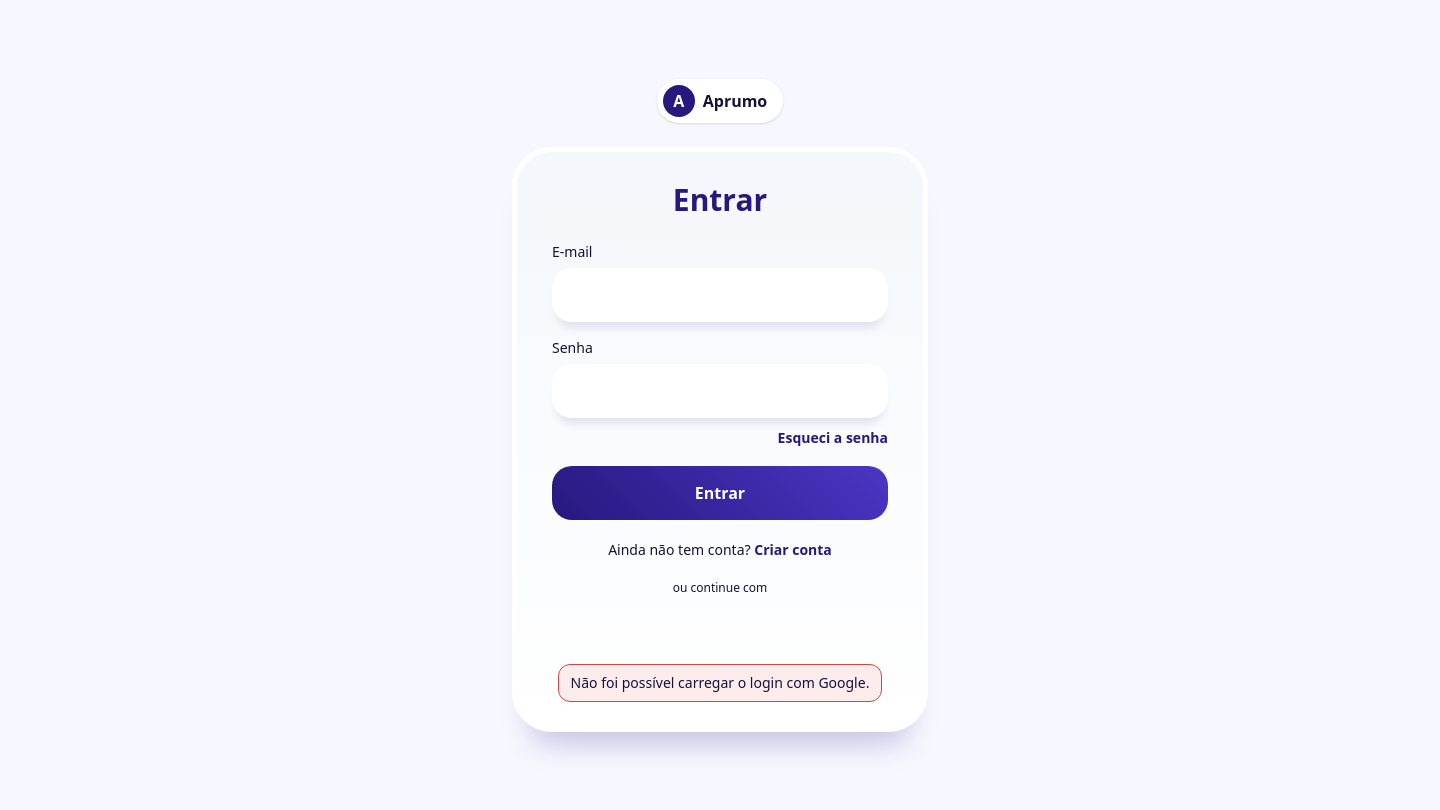
Scenario: LoginPage › login_com_sucesso_vai_para_inicio
Type "ana@exemplo.com" into the field labelled "E-mail" at (720, 294), box [552,268,888,322]
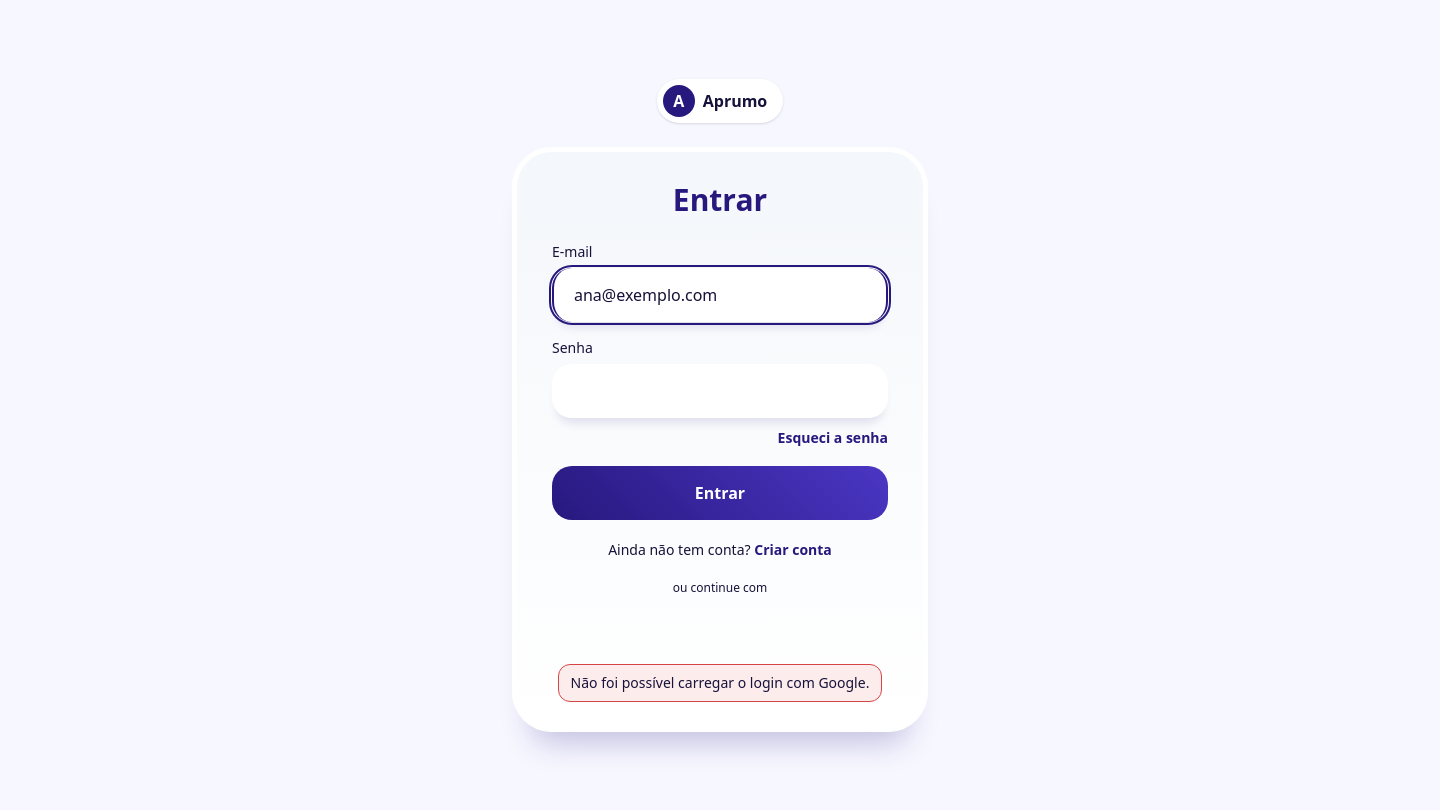
Type "senha-correta" into the password field labelled "Senha" at (720, 390), box [552,364,888,418]
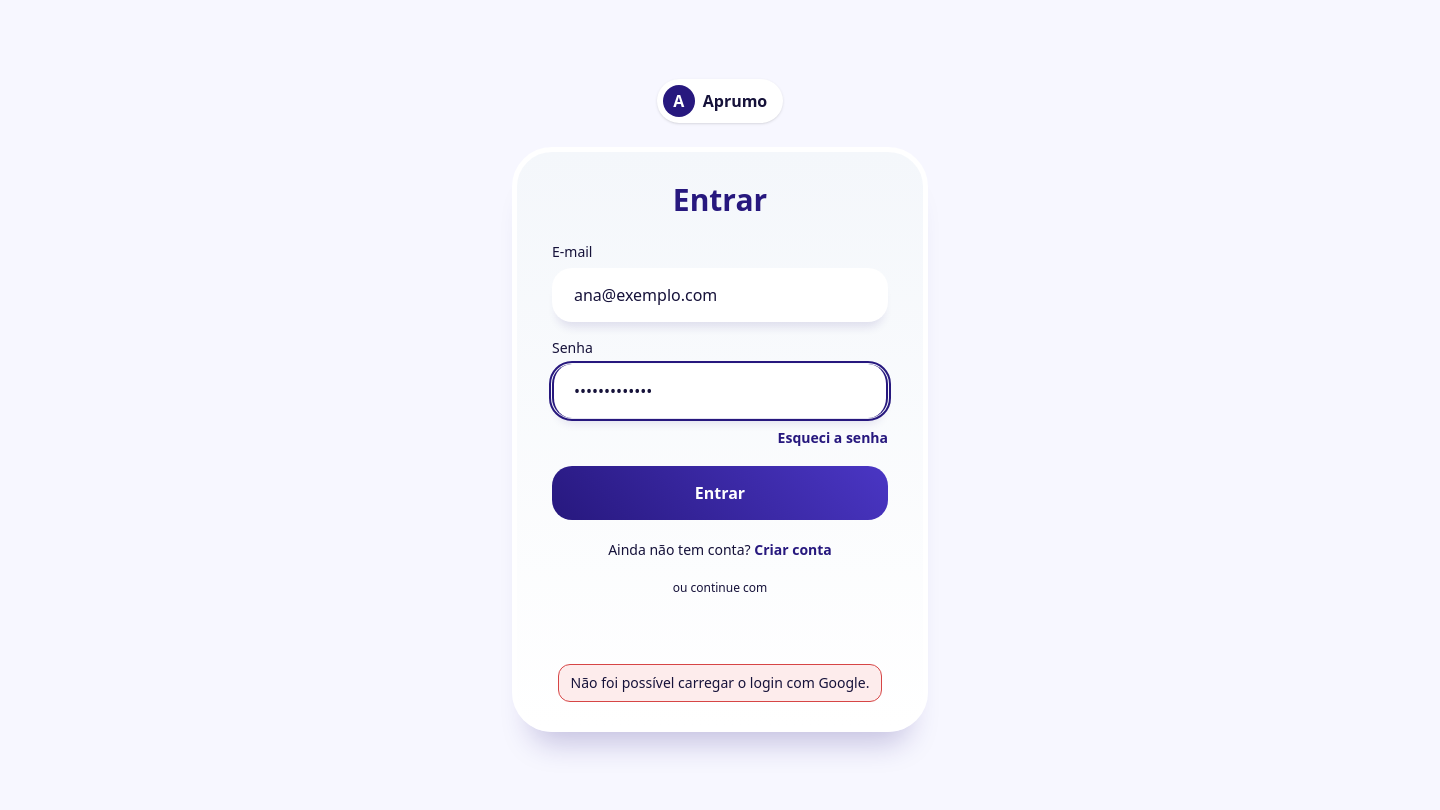
Click the button "Entrar" at (720, 492), box [552,466,888,520]
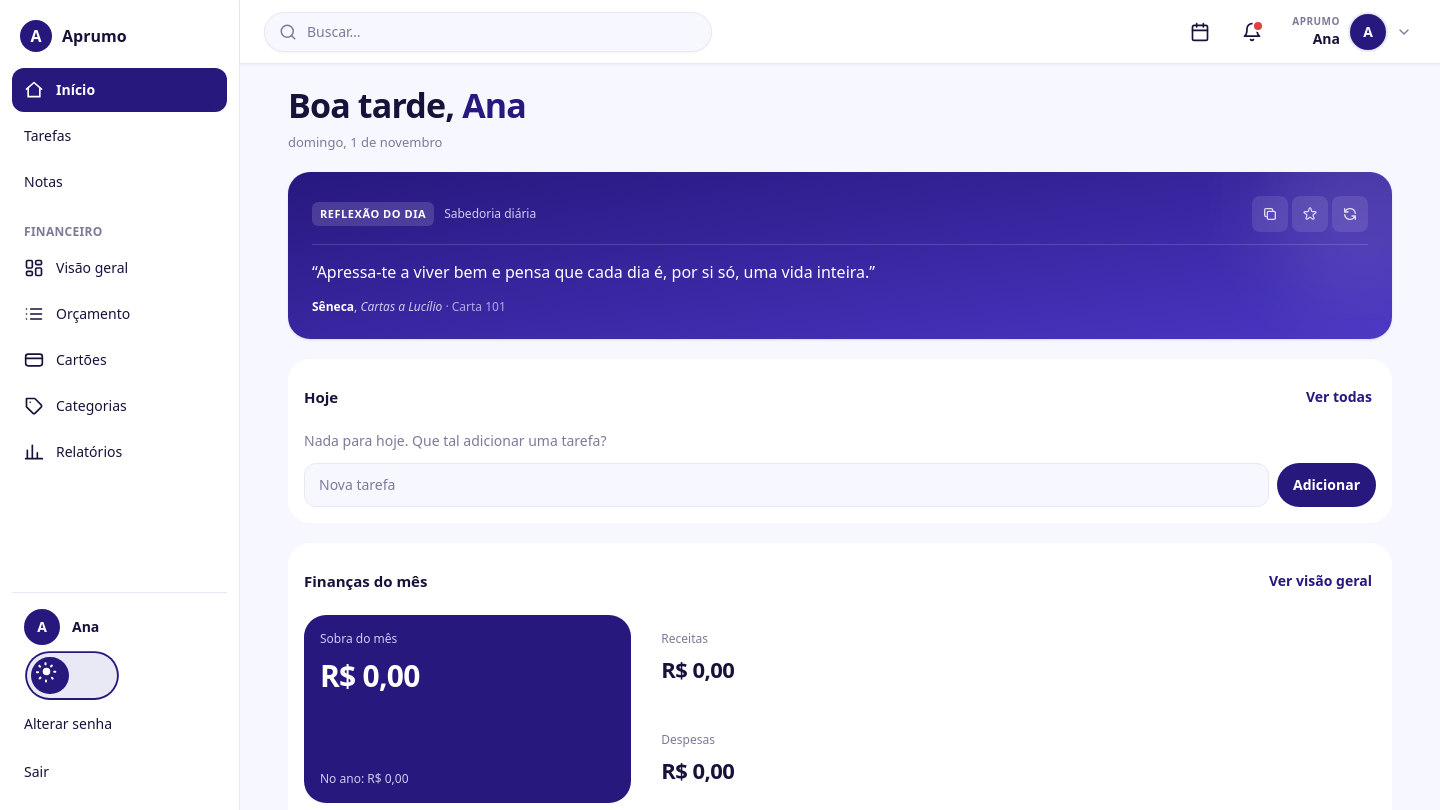
Expected: the heading "Boa tarde, Ana" is shown, [288,82,526,128]
Expected: the heading "Entrar" is gone
